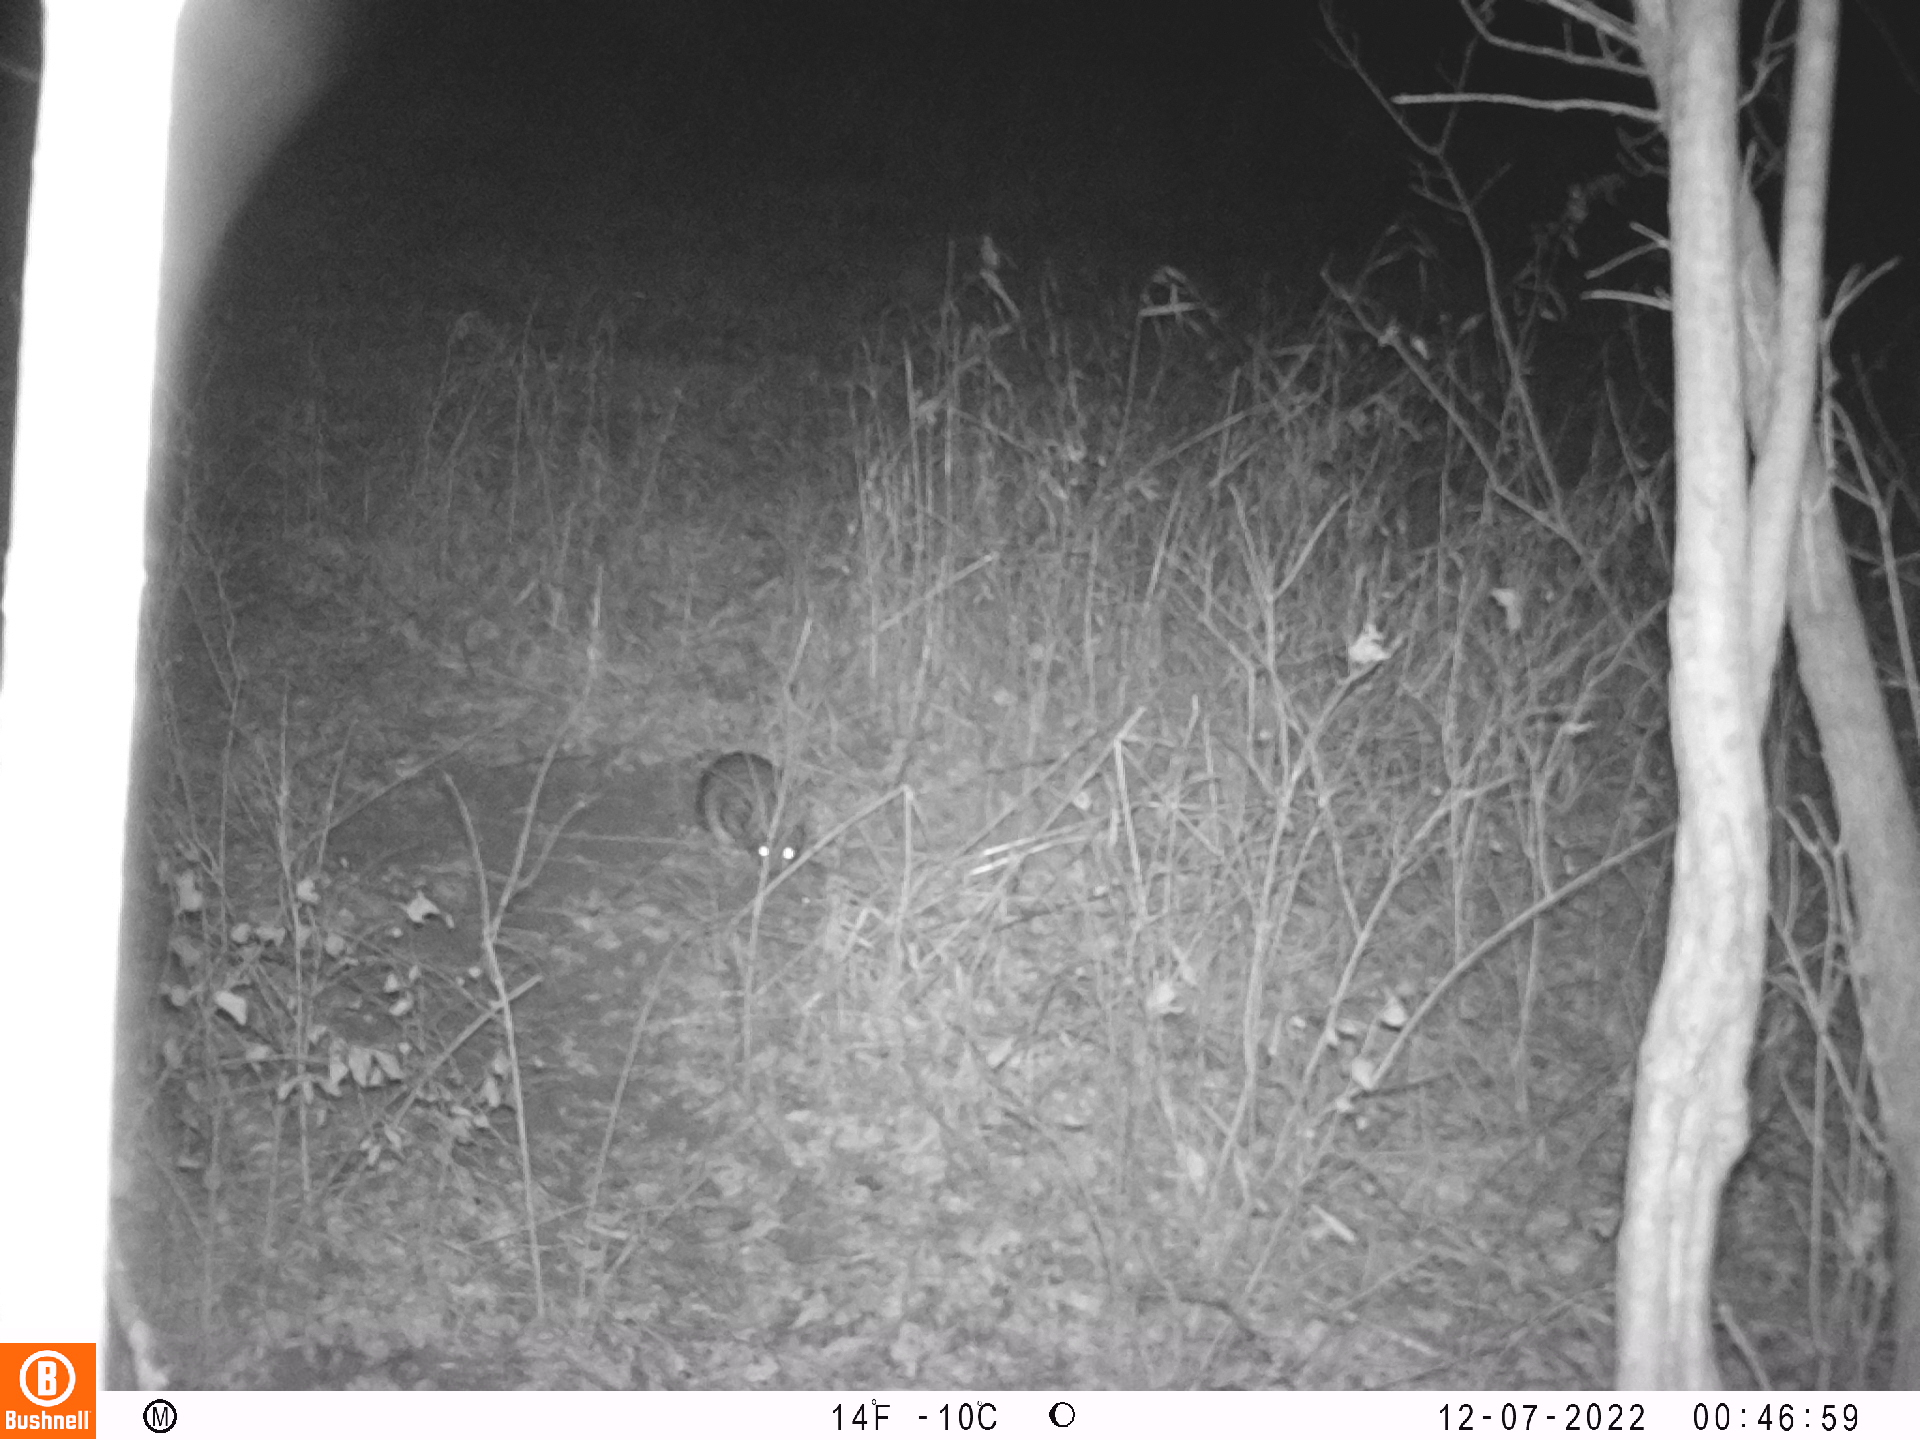Rabbit: (695, 749, 807, 874)
